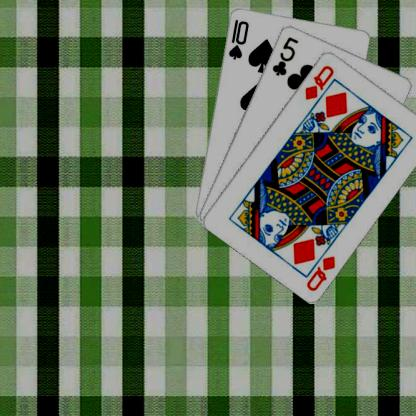10S: (225, 16, 250, 61)
5C: (269, 34, 299, 77)
QD: (301, 63, 334, 101), (304, 253, 336, 292)
